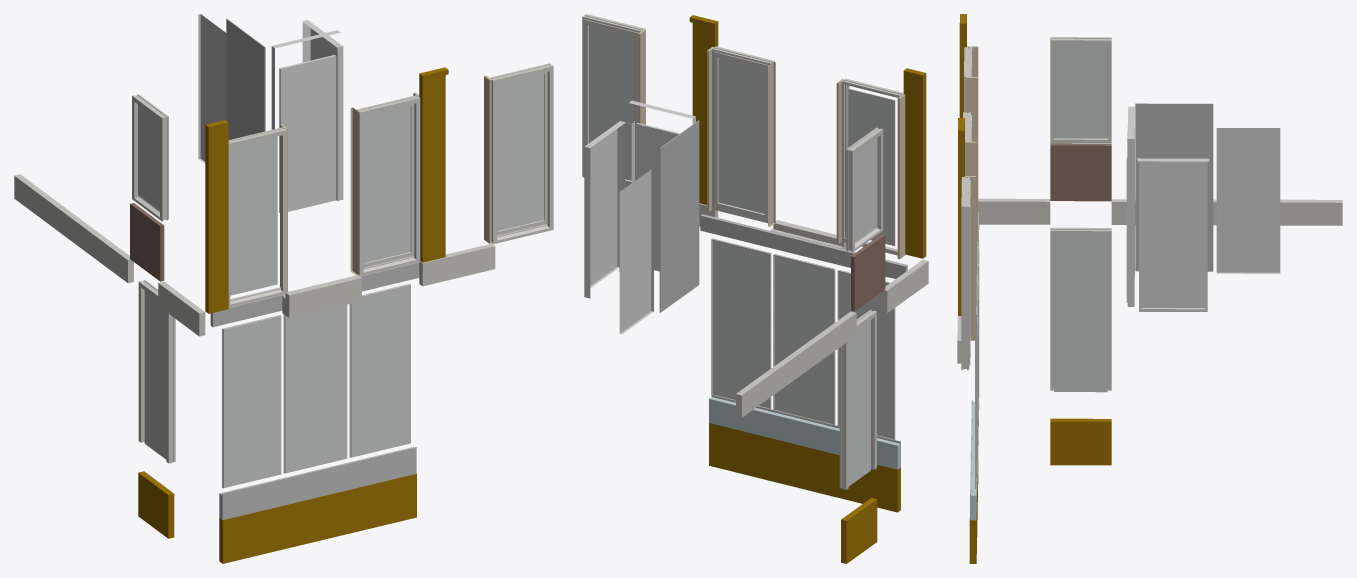
3 renders of one model, left to right at view 1: azimuth 30°, elevation 25°; view 2: azimuth 150°, elevation 25°; view 3: azimuth 270°, elevation 25°, orthographic.
Size of the model in its own units: 5.89 by 7.14 by 5.59.
